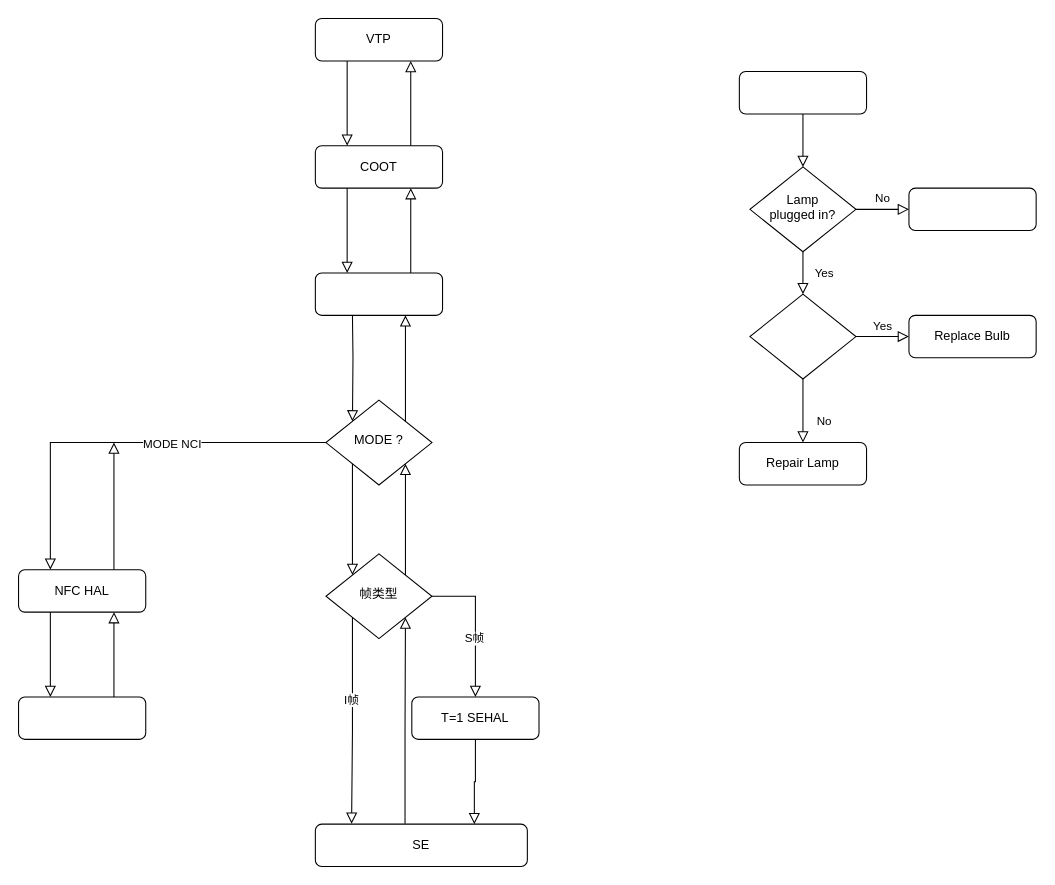
This 1055x885 diagram has some shape labels left out. The box of each missing label's shape, as (x1, y1, x2, y2) in pixels:
Bulb burned out?: (749, 293, 856, 379)
Lamp doesn't work: (738, 70, 867, 114)
NFC FW: (17, 696, 146, 739)
NfcDev: (314, 272, 443, 315)
Plug in lamp: (908, 187, 1036, 231)
